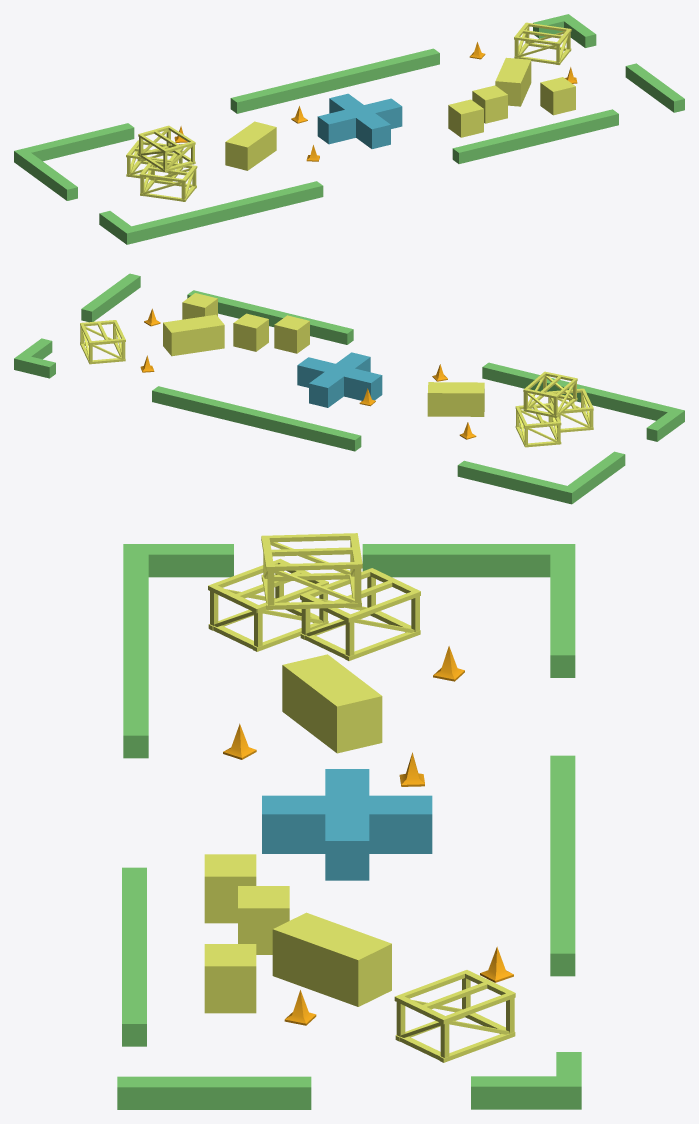
Rendered from BMark1.fbx.
The picture shows the model from 3 angles, top to bottom: view 1: azimuth 30°, elevation 25°; view 2: azimuth 150°, elevation 25°; view 3: azimuth 270°, elevation 25°; orthographic projection. The views are drawn at different scales.
Parts seen in each view (by area): view 1: BMark1; view 2: BMark1; view 3: BMark1.
Boxes of the visible parts, <box> form: BMark1: <box>14,14,684,244</box>; BMark1: <box>14,273,684,504</box>; BMark1: <box>117,533,581,1109</box>.
Bounding box in the file's own units: 654 × 57.08 × 236.
